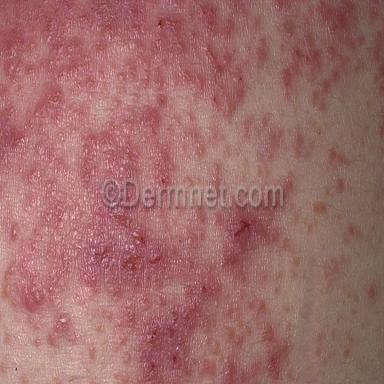Darier_s-Disease: (0, 2, 384, 382)
